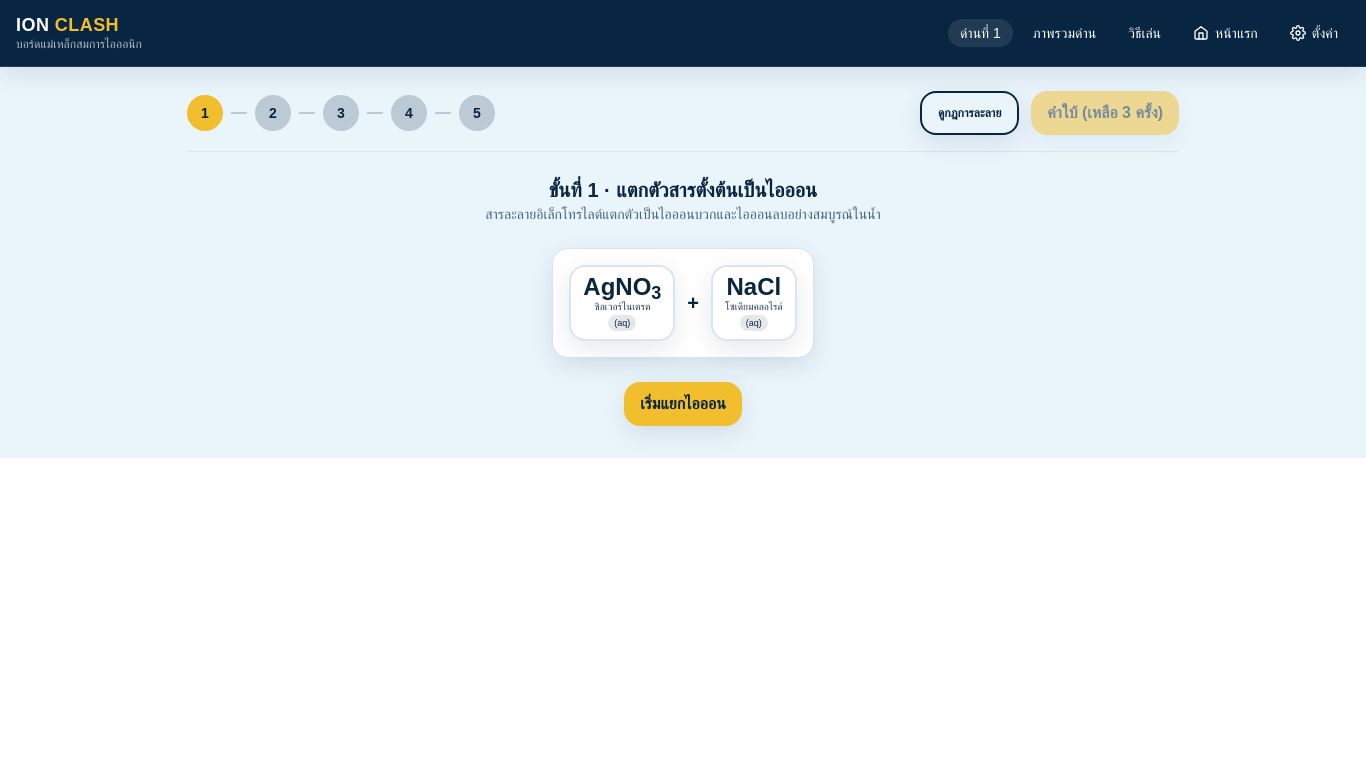
Play Page (/level/[levelId]/play) › render ด่าน 1 ใน Step 1 และกดเริ่มเพื่อแตกตัวสารตั้งต้นได้
This screenshot has width=1366, height=768.
expect the heading "ขั้นที่ 1 · แตกตัวสารตั้งต้นเป็นไอออน" is shown: met, box [549,178,817,200]
Click the button "เริ่มแยกไอออน" at x=683, y=404, box [624,382,742,426]
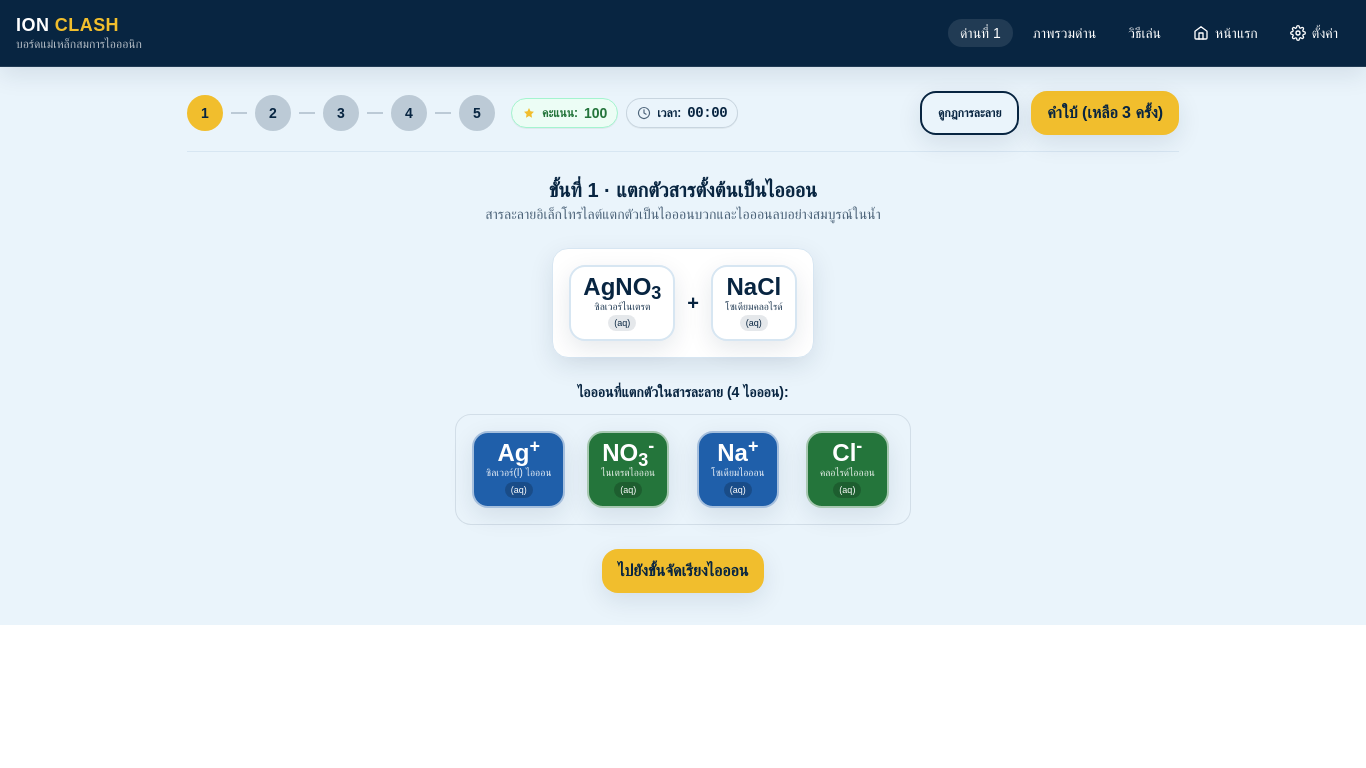
expect the button "ไปยังขั้นจัดเรียงไอออน" is shown: met, box [602,548,764,592]
